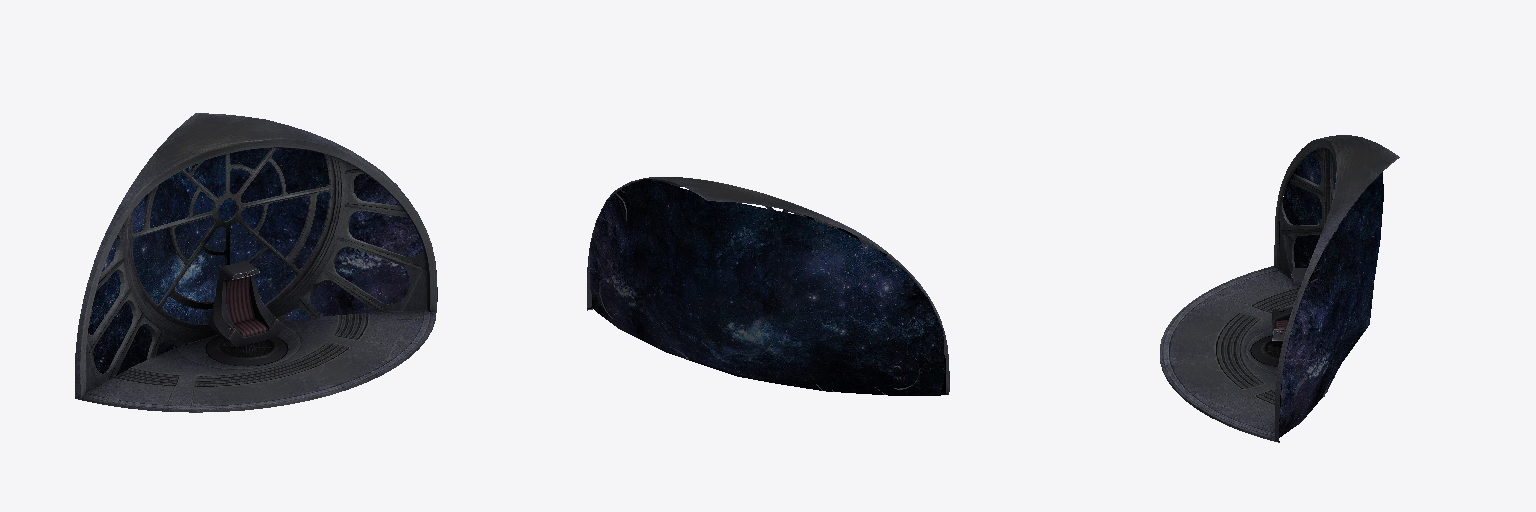
The picture shows the model from 3 angles: view 1: azimuth 30°, elevation 25°; view 2: azimuth 150°, elevation 25°; view 3: azimuth 270°, elevation 25°; orthographic projection.
Visible parts, largest first — view 1: DarthSidiousScene; view 2: DarthSidiousScene; view 3: DarthSidiousScene.
Part boxes in pixels (left/top/right/bottom): DarthSidiousScene: left=75, top=113, right=437, bottom=412; DarthSidiousScene: left=587, top=177, right=949, bottom=395; DarthSidiousScene: left=1160, top=135, right=1399, bottom=442.
Size of the model in its own units: 17.69 by 9.22 by 10.18.
Materials: 1 (1 with a texture image).